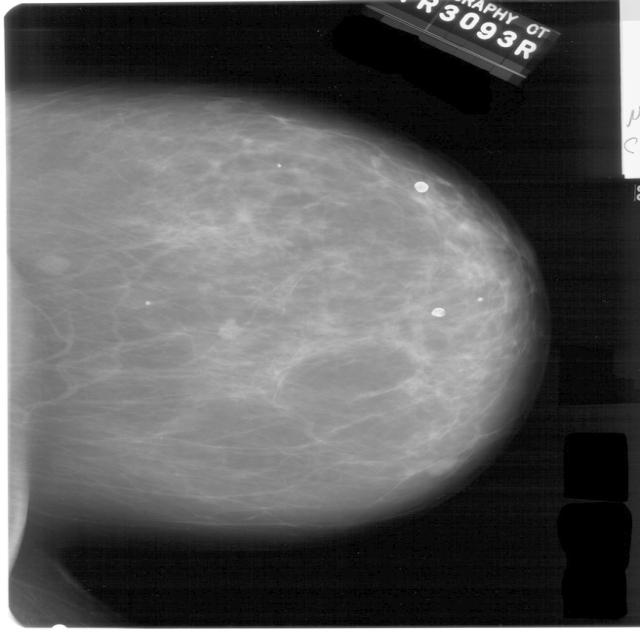tumour: (216, 314, 248, 338)
